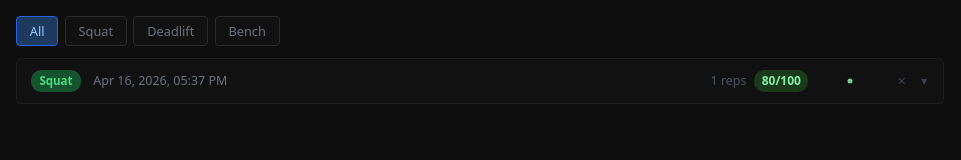
HistoryView — empty state › shows lift-specific empty message when filtered and no matching sessions
Click the button "Deadlift": x=171, y=31 top-left (133, 16), bottom-right (208, 46)
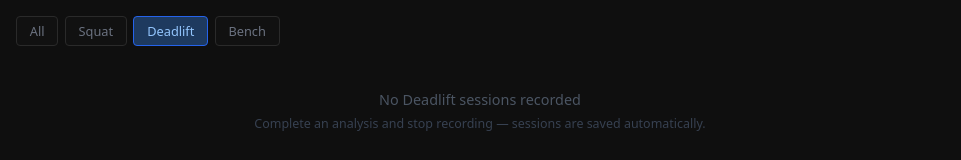
Expected: the text "No Deadlift sessions recorded" is shown, top-left (379, 90), bottom-right (581, 109)
